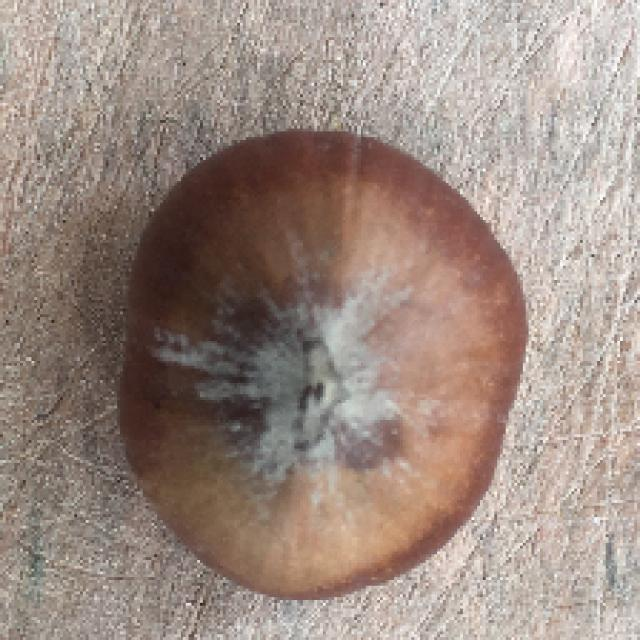DamagedHazelnut: (116, 131, 531, 600)
